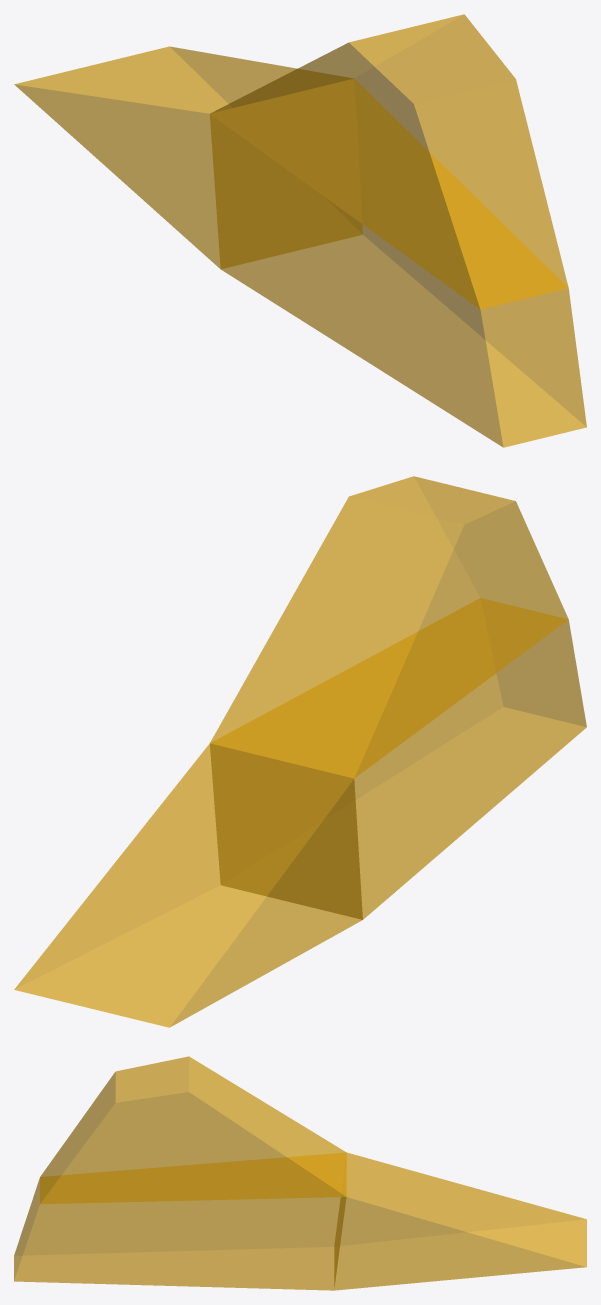
Rendered from SM_Veh_Ship_M_Ram_03_Collision.fbx.
The picture shows the model from 3 angles, top to bottom: view 1: azimuth 30°, elevation 25°; view 2: azimuth 150°, elevation 25°; view 3: azimuth 270°, elevation 25°; orthographic projection. The views are drawn at different scales.
Visible parts, largest first — view 1: SM_Veh_Ship_M_Ram_03_Collision; view 2: SM_Veh_Ship_M_Ram_03_Collision; view 3: SM_Veh_Ship_M_Ram_03_Collision.
Part boxes in pixels (x1,y1,x2,y2): SM_Veh_Ship_M_Ram_03_Collision: (14, 14, 586, 447); SM_Veh_Ship_M_Ram_03_Collision: (14, 476, 586, 1027); SM_Veh_Ship_M_Ram_03_Collision: (14, 1056, 586, 1290).
Bounding box in the file's own units: 195 × 368 × 984.
